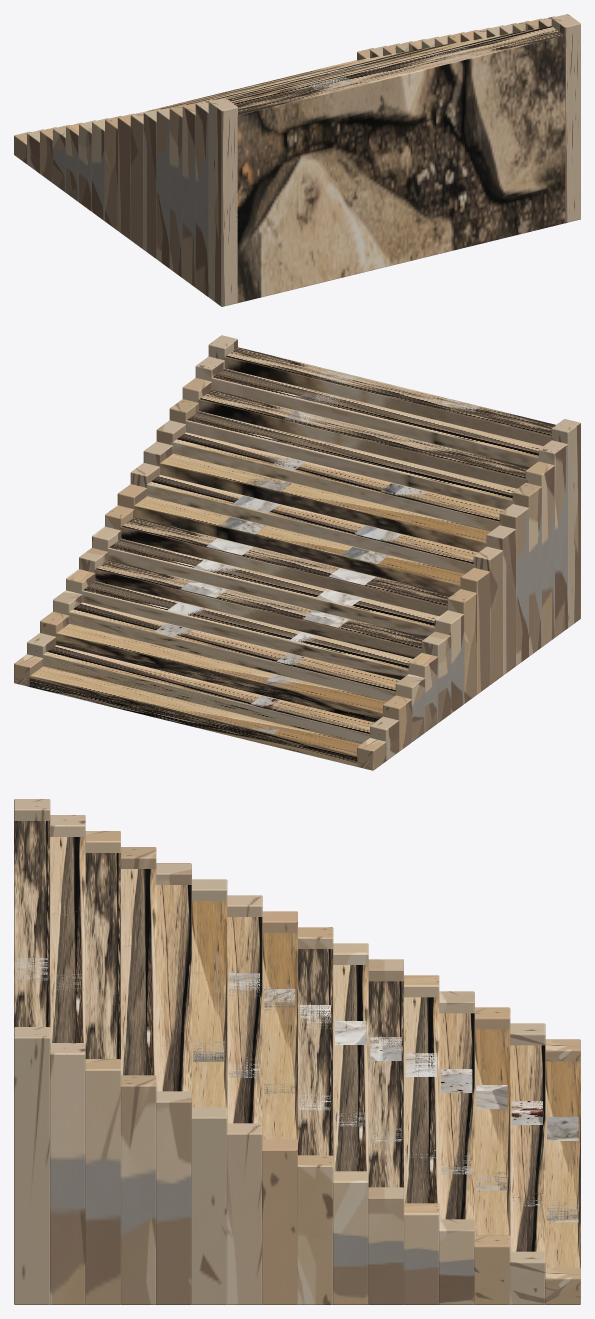
File: stairs_stone_phalanx_6m_LOD1.glb
The picture shows the model from 3 angles, top to bottom: view 1: azimuth 30°, elevation 25°; view 2: azimuth 150°, elevation 25°; view 3: azimuth 270°, elevation 25°; orthographic projection. The views are drawn at different scales.
Visible parts, largest first — view 1: LOD1_PhalanxStep.015, LOD1_PhalanxCurb.030, LOD1_PhalanxCurb.031, LOD1_PhalanxCurb.028, LOD1_PhalanxCurb.026, LOD1_PhalanxCurb.024, LOD1_PhalanxCurb.022, LOD1_PhalanxCurb.020, LOD1_PhalanxCurb.018, LOD1_PhalanxCurb.016, LOD1_PhalanxCurb.014, LOD1_PhalanxCurb.012 (+10 smaller); view 2: LOD1_PhalanxStep.015, LOD1_PhalanxStep.012, LOD1_PhalanxStep.013, LOD1_PhalanxStep.014, LOD1_PhalanxStep, LOD1_PhalanxStep.001, LOD1_PhalanxStep.002, LOD1_PhalanxStep.010, LOD1_PhalanxStep.004, LOD1_PhalanxStep.003, LOD1_PhalanxStep.011, LOD1_PhalanxStep.006 (+21 smaller); view 3: LOD1_PhalanxCurb.031, LOD1_PhalanxCurb.029, LOD1_PhalanxCurb.027, LOD1_PhalanxCurb.025, LOD1_PhalanxCurb.023, LOD1_PhalanxStep.015, LOD1_PhalanxStep.011, LOD1_PhalanxStep.012, LOD1_PhalanxStep.013, LOD1_PhalanxStep.014, LOD1_PhalanxStep.010, LOD1_PhalanxStep.009 (+43 smaller).
Boxes of the visible parts, x1,y1,x2,y2 form: LOD1_PhalanxStep.015: (234, 26, 567, 303); LOD1_PhalanxCurb.030: (208, 97, 237, 306); LOD1_PhalanxCurb.031: (551, 14, 580, 222); LOD1_PhalanxCurb.028: (195, 100, 212, 296); LOD1_PhalanxCurb.026: (182, 102, 199, 287); LOD1_PhalanxCurb.024: (169, 104, 186, 277); LOD1_PhalanxCurb.022: (156, 106, 173, 268); LOD1_PhalanxCurb.020: (143, 109, 160, 258); LOD1_PhalanxCurb.018: (130, 111, 147, 249); LOD1_PhalanxCurb.016: (117, 113, 134, 240); LOD1_PhalanxCurb.014: (105, 116, 121, 230); LOD1_PhalanxCurb.012: (92, 118, 108, 221); LOD1_PhalanxStep.015: (222, 347, 555, 445); LOD1_PhalanxStep.012: (185, 411, 516, 509); LOD1_PhalanxStep.013: (197, 390, 529, 488); LOD1_PhalanxStep.014: (210, 368, 542, 467); LOD1_PhalanxStep: (27, 666, 360, 767); LOD1_PhalanxStep.001: (40, 645, 373, 743); LOD1_PhalanxStep.002: (53, 624, 386, 722); LOD1_PhalanxStep.010: (157, 453, 490, 552); LOD1_PhalanxStep.004: (81, 581, 412, 679); LOD1_PhalanxStep.003: (66, 602, 399, 701); LOD1_PhalanxStep.011: (170, 432, 503, 531); LOD1_PhalanxStep.006: (105, 538, 438, 637); LOD1_PhalanxCurb.031: (14, 1027, 50, 1304); LOD1_PhalanxCurb.029: (50, 1043, 85, 1304); LOD1_PhalanxCurb.027: (85, 1059, 120, 1304); LOD1_PhalanxCurb.025: (120, 1075, 156, 1304); LOD1_PhalanxCurb.023: (156, 1091, 191, 1304); LOD1_PhalanxStep.015: (14, 821, 50, 1027); LOD1_PhalanxStep.011: (156, 885, 191, 1091); LOD1_PhalanxStep.012: (121, 869, 156, 1075); LOD1_PhalanxStep.013: (85, 853, 120, 1059); LOD1_PhalanxStep.014: (50, 837, 85, 1043); LOD1_PhalanxStep.010: (192, 901, 227, 1107); LOD1_PhalanxStep.009: (227, 917, 262, 1123).
Size of the model in its own units: 6 by 3.13 by 6.01.
Materials: 3 (3 with a texture image).
